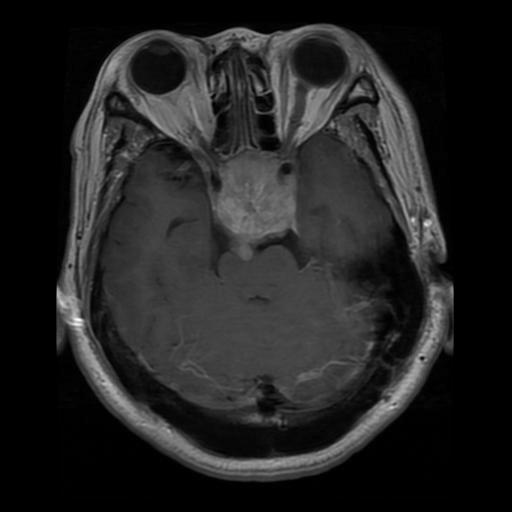Tumour-Pituitary: (211, 154, 301, 248)
